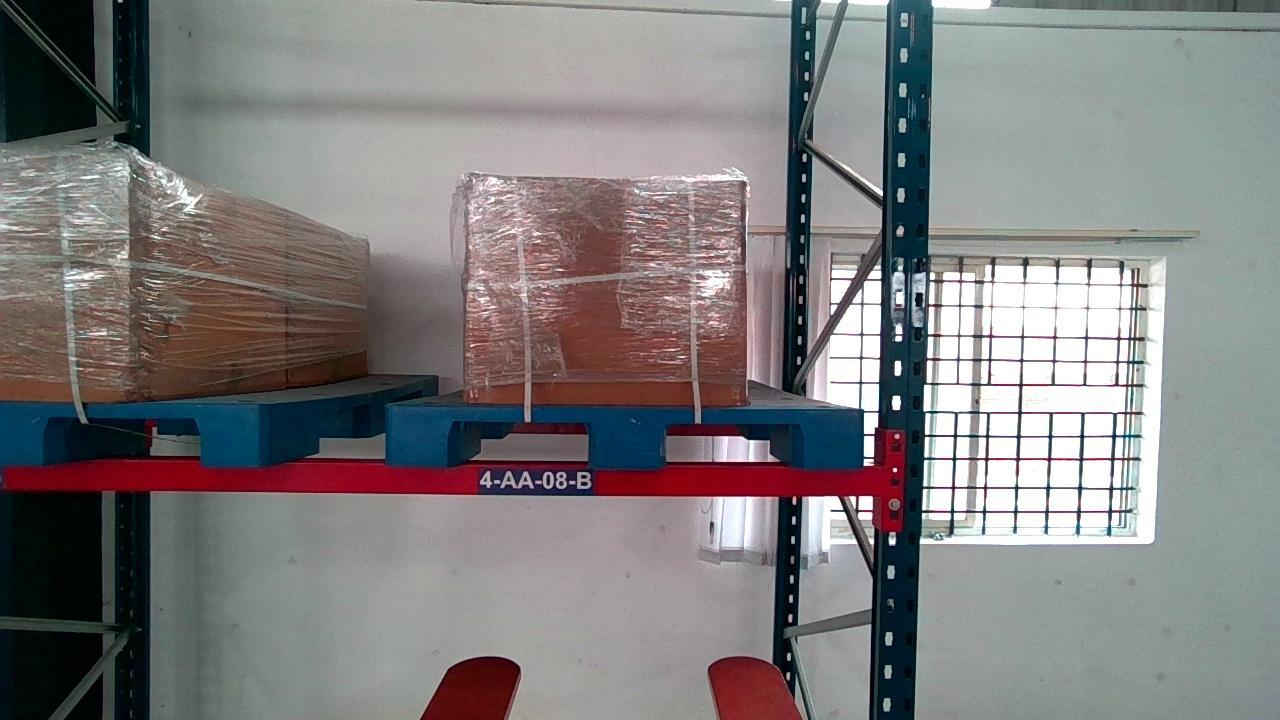h_rack: (1, 461, 881, 494)
small_pallet: (388, 404, 864, 466), (1, 401, 267, 467)
